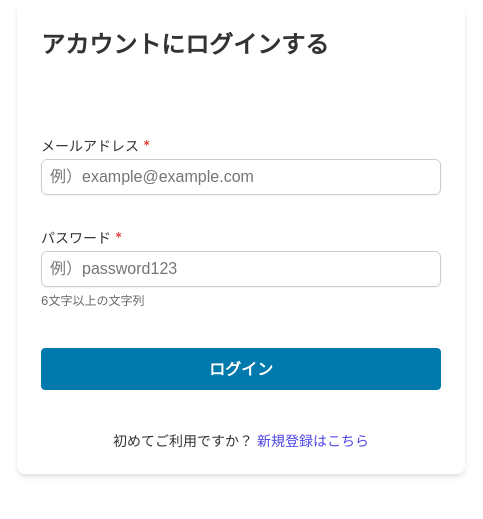
Test case: LoginForm › パスワードが短すぎる場合に正しいエラーメッセージが表示されること
This screenshot has width=483, height=519.
In the field labelled "メールアドレス*": (241, 177) top-left (41, 159), bottom-right (441, 195), type "test@example.com"
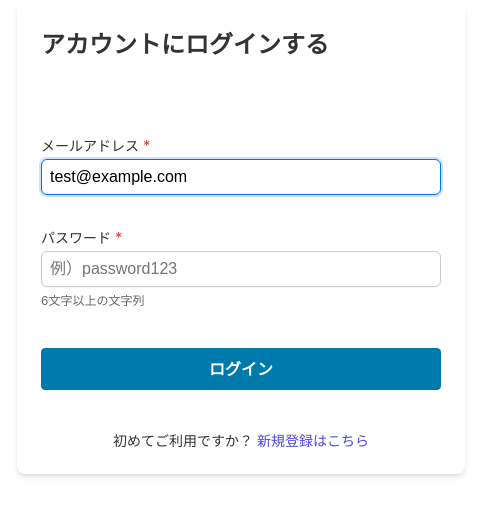
In the password field labelled "パスワード*": (241, 269) top-left (41, 251), bottom-right (441, 287), type "12345"
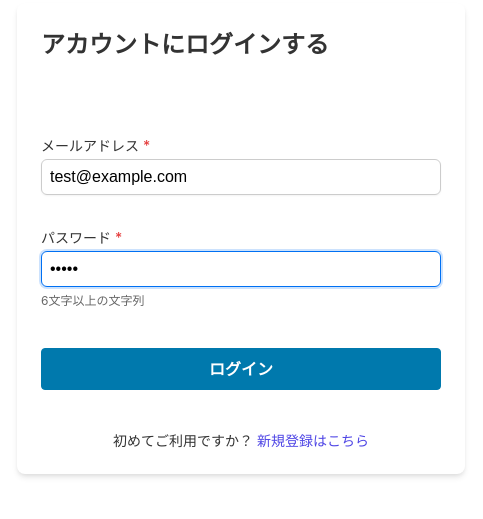
Click the button "ログイン": (241, 369) top-left (41, 348), bottom-right (441, 390)
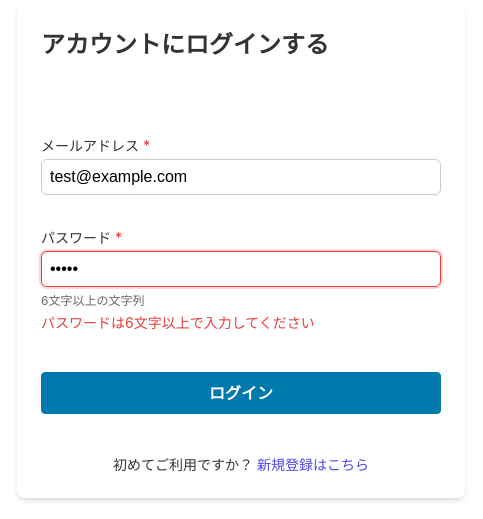
Result: the text "パスワードは6文字以上で入力してください" is shown at top-left (41, 314), bottom-right (315, 331)
